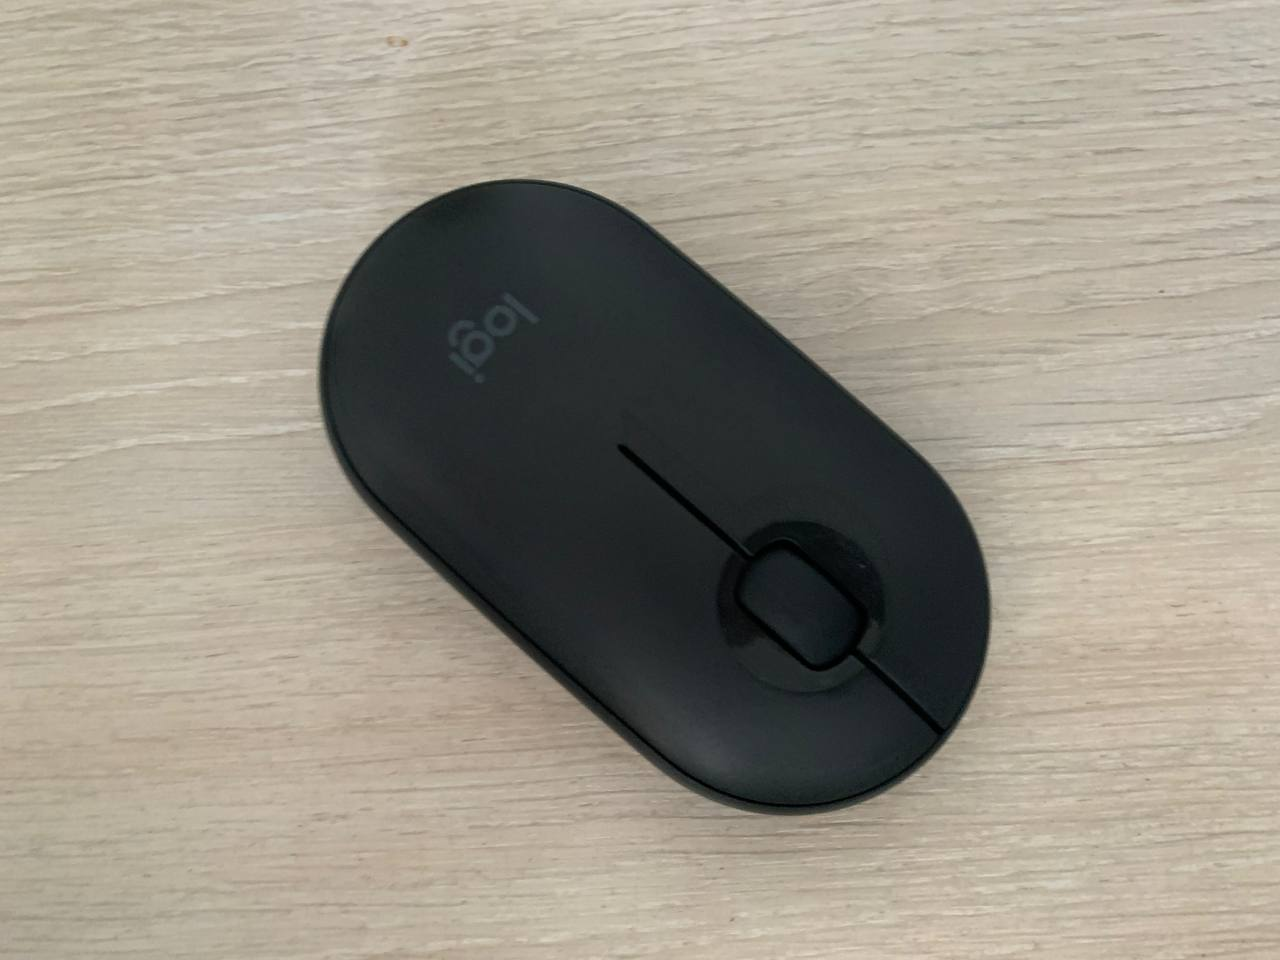mouse: (319, 181, 990, 812)
